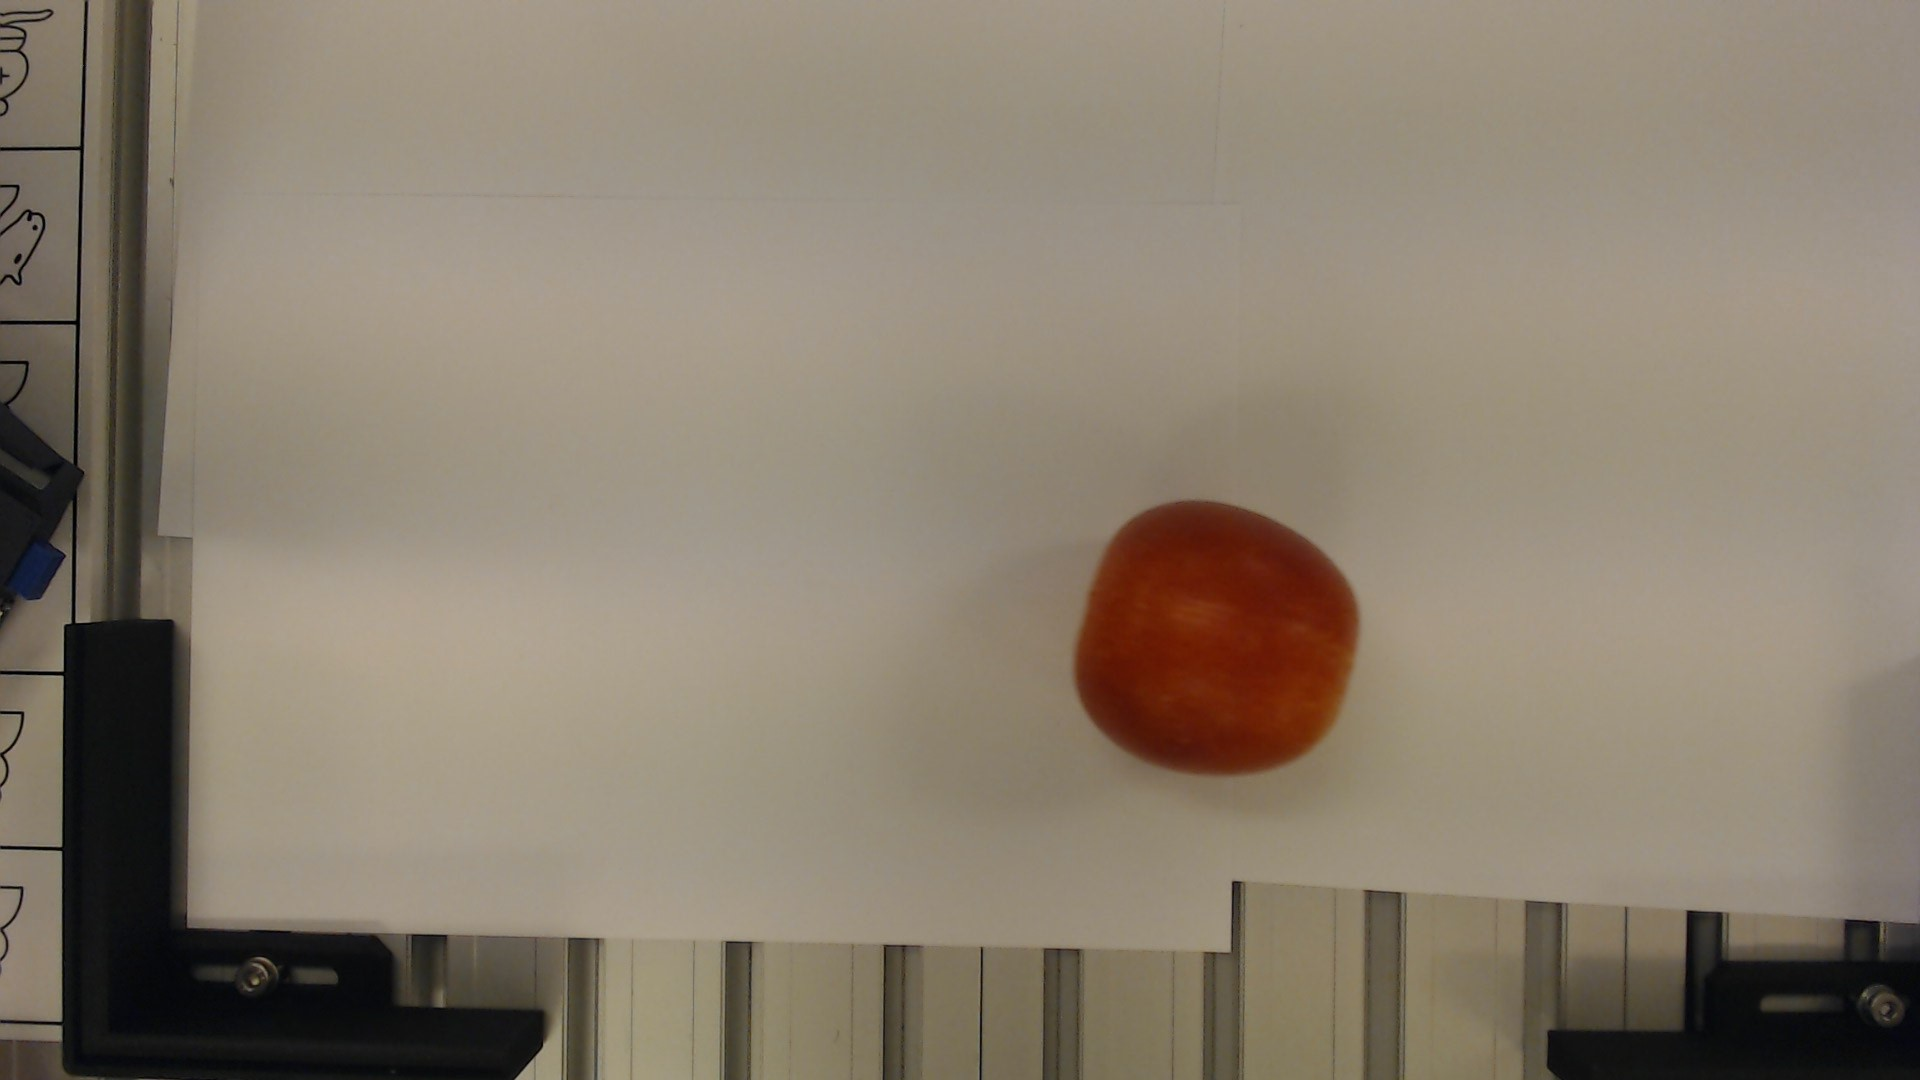Peach: (1075, 495, 1367, 779)
